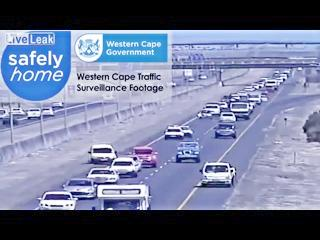Car: (97, 184, 151, 210), (200, 161, 236, 186), (38, 191, 76, 209), (64, 176, 98, 196), (130, 146, 158, 167), (111, 157, 139, 176), (88, 144, 116, 162), (87, 167, 118, 183), (229, 102, 251, 118), (177, 141, 200, 155), (214, 125, 236, 139), (165, 127, 184, 140), (178, 125, 193, 137), (204, 104, 220, 115), (2, 115, 18, 126), (220, 112, 235, 123), (27, 108, 41, 118), (199, 109, 214, 118), (11, 107, 26, 115), (0, 109, 10, 121), (265, 79, 278, 88), (42, 107, 54, 116), (229, 93, 241, 102), (215, 101, 228, 109), (236, 91, 248, 99), (256, 80, 267, 88), (221, 95, 231, 103), (251, 83, 261, 90), (244, 86, 255, 92), (197, 111, 206, 118), (53, 102, 63, 107), (261, 95, 268, 102), (273, 71, 280, 78), (188, 76, 195, 82), (200, 75, 208, 80), (209, 68, 216, 71), (297, 67, 302, 71)
Not Accident: (86, 144, 141, 178)
